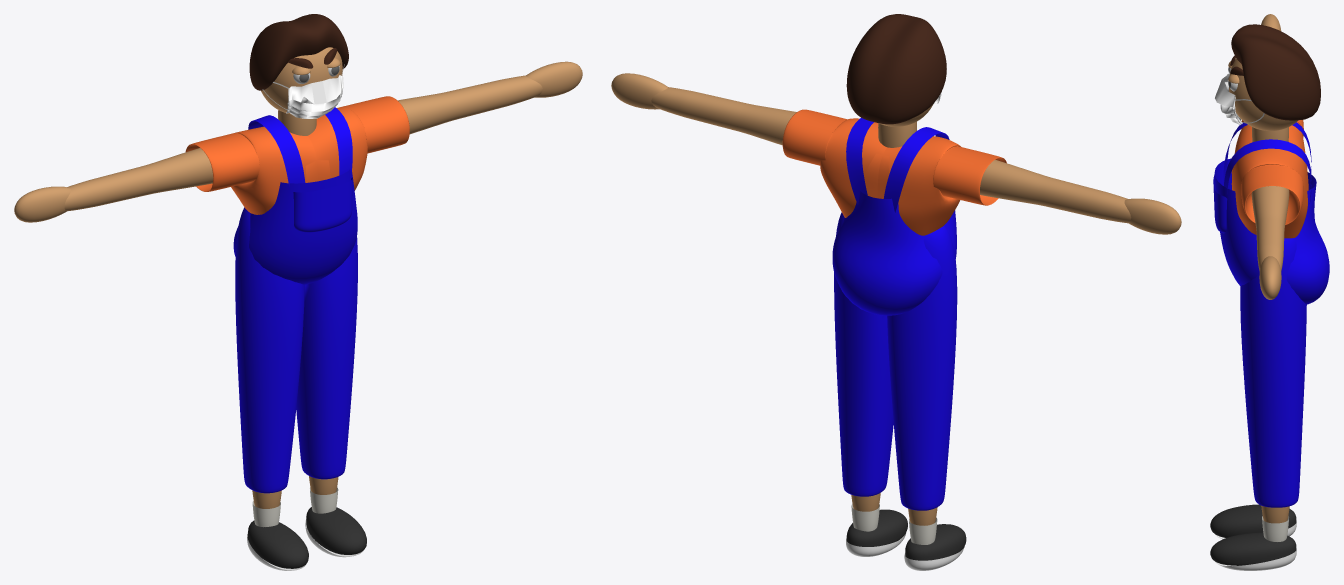
Rendered from Courier.fbx.
3 views of the same model, side by side, from view 1: azimuth 30°, elevation 25°; view 2: azimuth 150°, elevation 25°; view 3: azimuth 270°, elevation 25° (orthographic). The views are drawn at different scales.
Visible parts, largest first — view 1: Cube.021, Cube.020, Cube.013, Cube.022, Cube.006, Cube.016, Cube.010, Cube.018, Cube, Plane.001, Cube.014, Cube.008 (+1 smaller); view 2: Cube.021, Cube.020, Cube.022, Cube.016, Cube.013, Cube.010, Cube.006, Cube, Cube.008, Cube.001, Cube.012, Cube.011; view 3: Cube.021, Cube.016, Cube.022, Cube.020, Cube.006, Cube.013, Cube.014, Cube, Cube.010, Cube.001, Plane.001, Cube.018 (+3 smaller).
Part boxes in pixels (x1,y1,x2,y2): Cube.021: [235, 207, 357, 493]; Cube.020: [185, 96, 409, 214]; Cube.013: [64, 75, 542, 211]; Cube.022: [233, 169, 357, 284]; Cube.006: [247, 507, 366, 568]; Cube.016: [249, 14, 348, 90]; Cube.010: [14, 61, 582, 222]; Cube.018: [293, 178, 352, 232]; Cube: [248, 107, 352, 186]; Plane.001: [286, 75, 343, 118]; Cube.014: [261, 47, 342, 114]; Cube.008: [252, 487, 338, 527]; Cube.021: [834, 212, 957, 510]; Cube.020: [782, 109, 1006, 235]; Cube.022: [832, 191, 956, 315]; Cube.016: [846, 14, 946, 124]; Cube.013: [651, 87, 1131, 223]; Cube.010: [611, 73, 1181, 234]; Cube.006: [846, 509, 966, 560]; Cube: [846, 117, 949, 212]; Cube.008: [851, 504, 937, 544]; Cube.001: [846, 533, 964, 570]; Cube.012: [851, 493, 937, 525]; Cube.011: [878, 121, 916, 147]; Cube.021: [1240, 238, 1306, 507]; Cube.016: [1231, 24, 1320, 120]; Cube.022: [1214, 158, 1329, 304]; Cube.020: [1231, 120, 1308, 238]; Cube.006: [1210, 504, 1296, 565]; Cube.013: [1251, 186, 1289, 271]; Cube.014: [1229, 58, 1297, 130]; Cube: [1223, 122, 1311, 203]; Cube.010: [1259, 14, 1281, 299]; Cube.001: [1215, 520, 1296, 570]; Plane.001: [1215, 73, 1242, 124]; Cube.018: [1213, 174, 1229, 233].
Bounding box in the file's own units: 1011 × 907 × 189.
